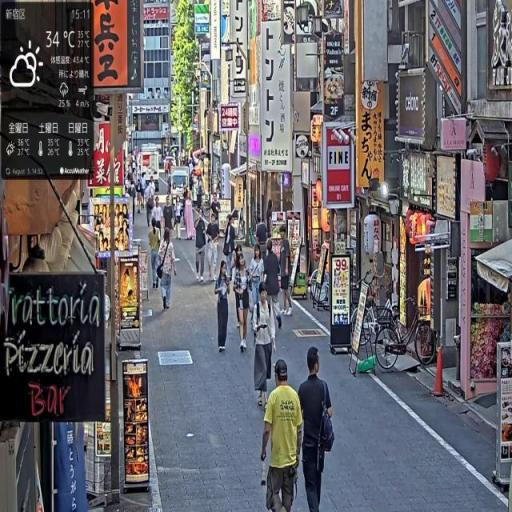person: (261, 358, 304, 512), (298, 345, 336, 512), (253, 286, 279, 414), (232, 249, 253, 354), (264, 241, 284, 350), (158, 228, 179, 311), (215, 260, 232, 356), (278, 224, 294, 319), (206, 213, 221, 284), (195, 209, 208, 285), (145, 179, 155, 235)
